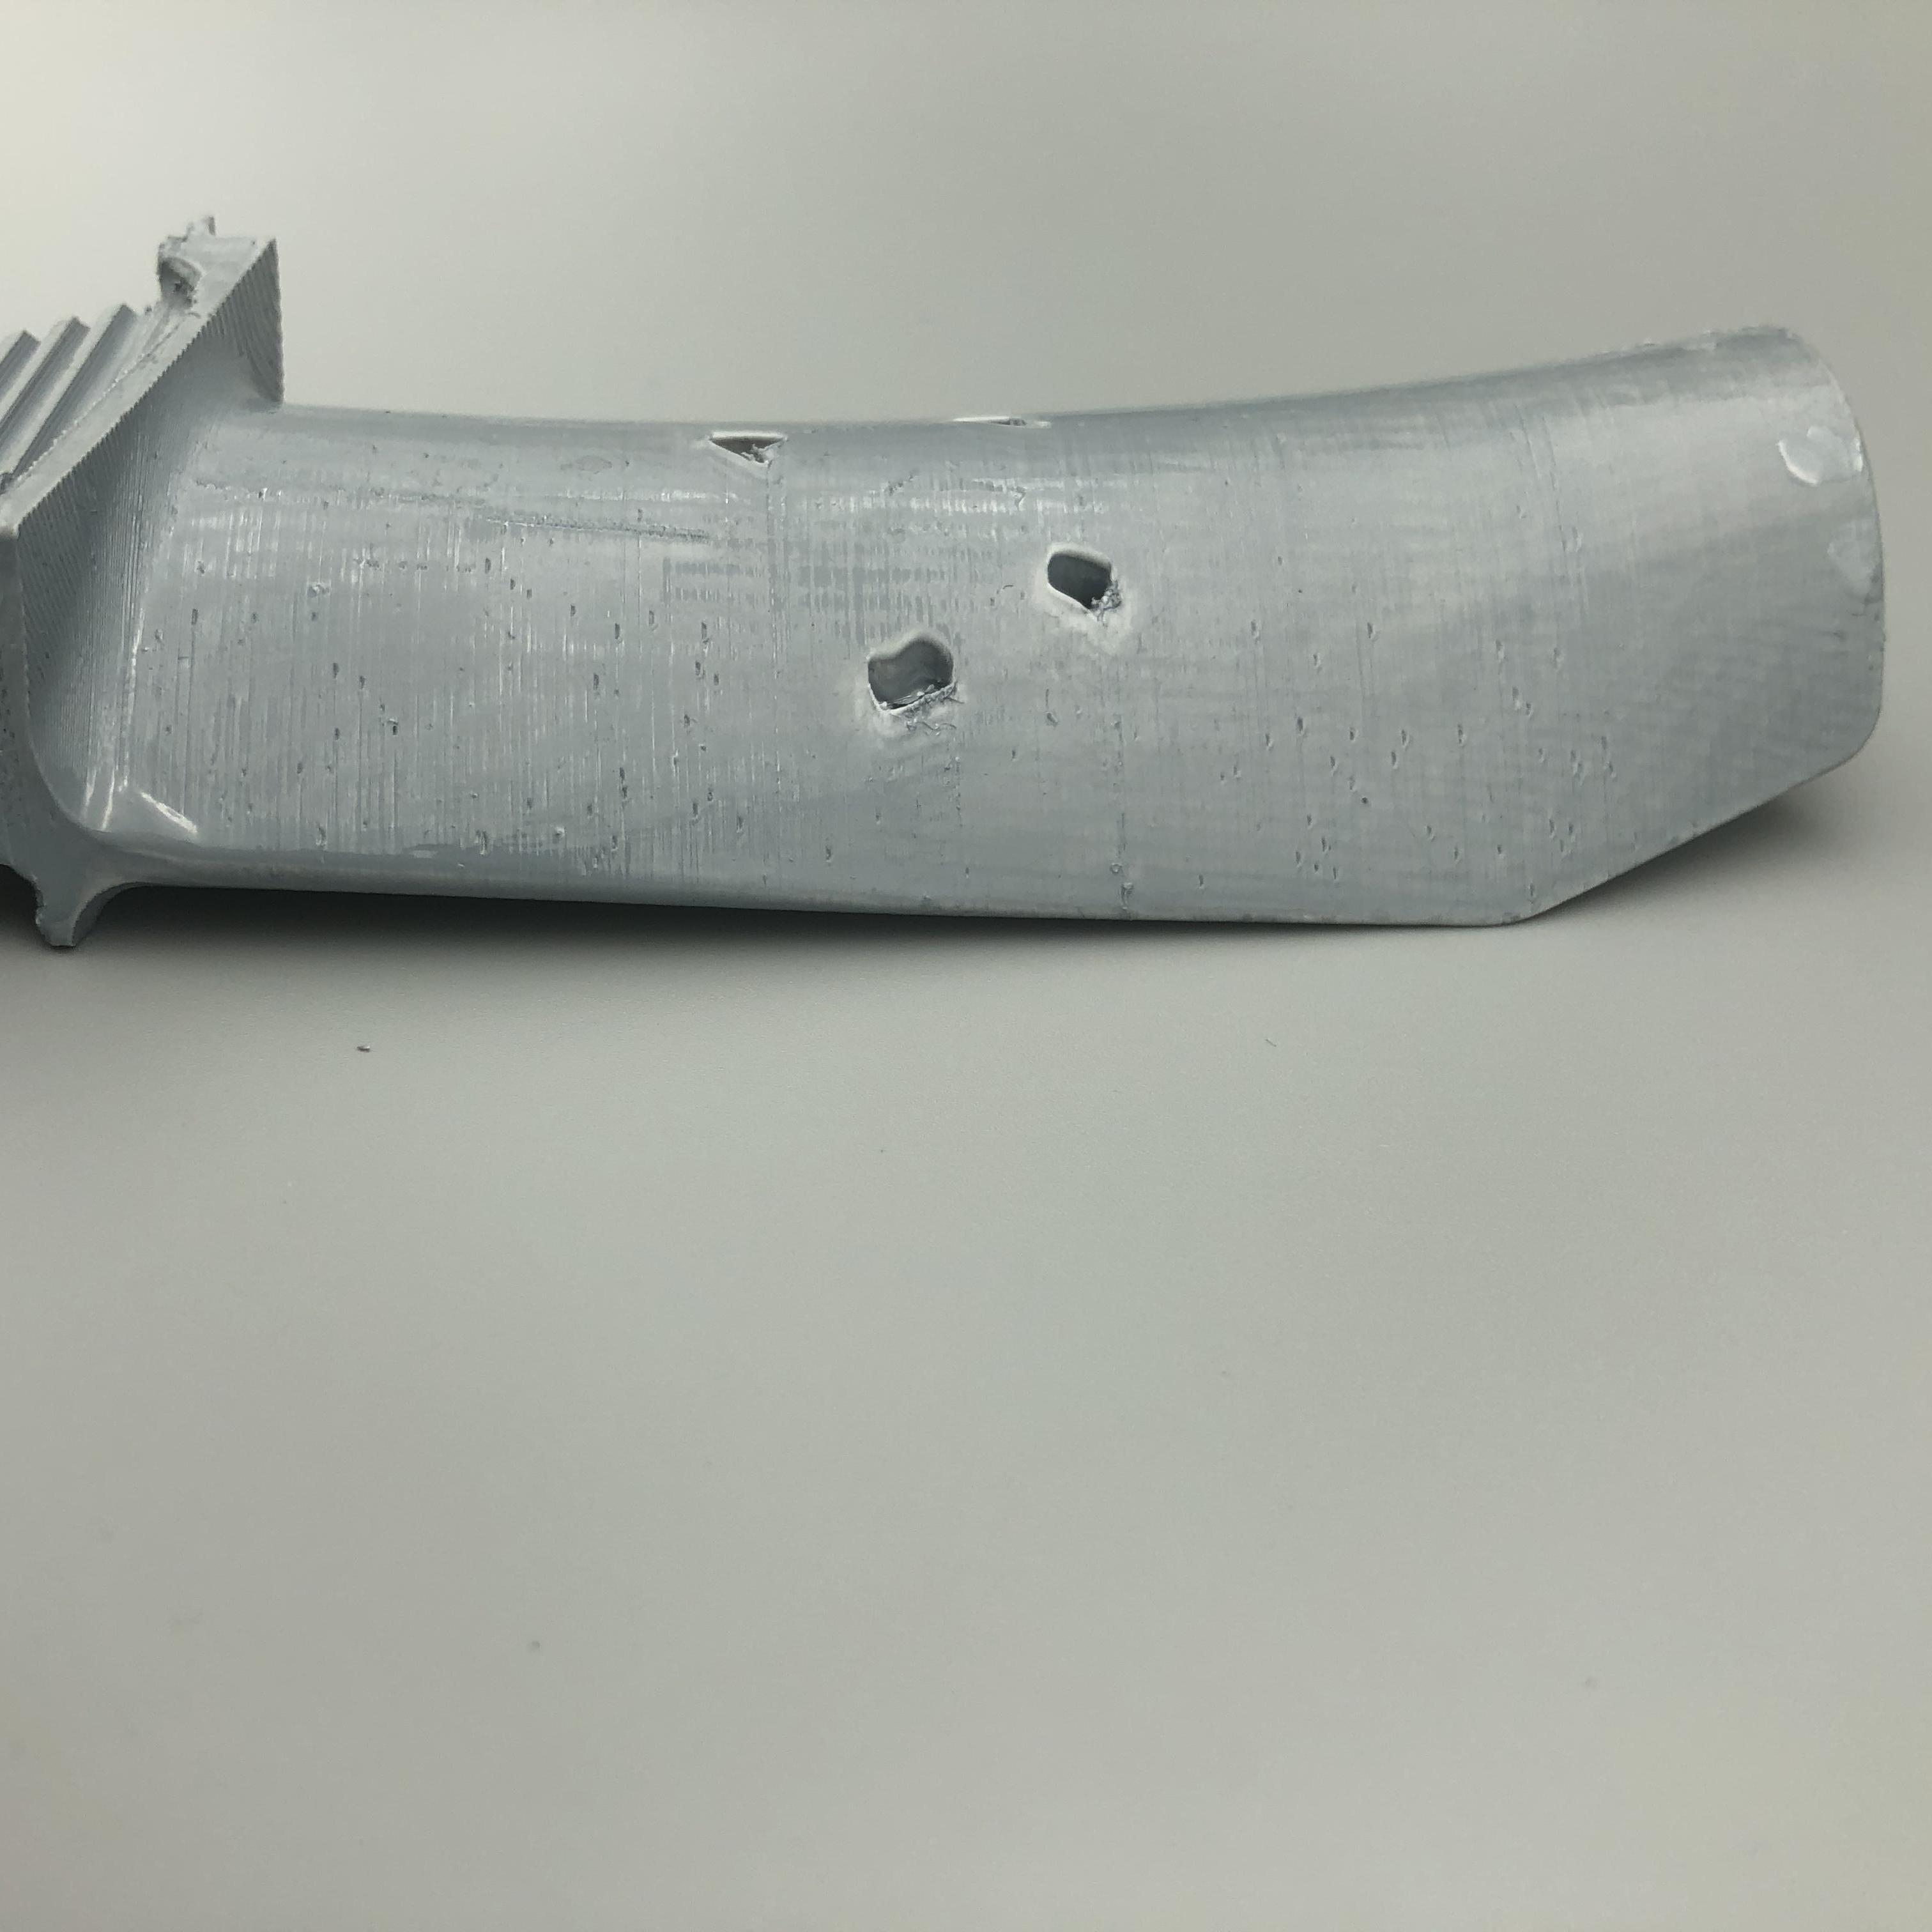breakdown: (853, 543, 1145, 731), (688, 416, 817, 476), (954, 412, 1069, 439)
